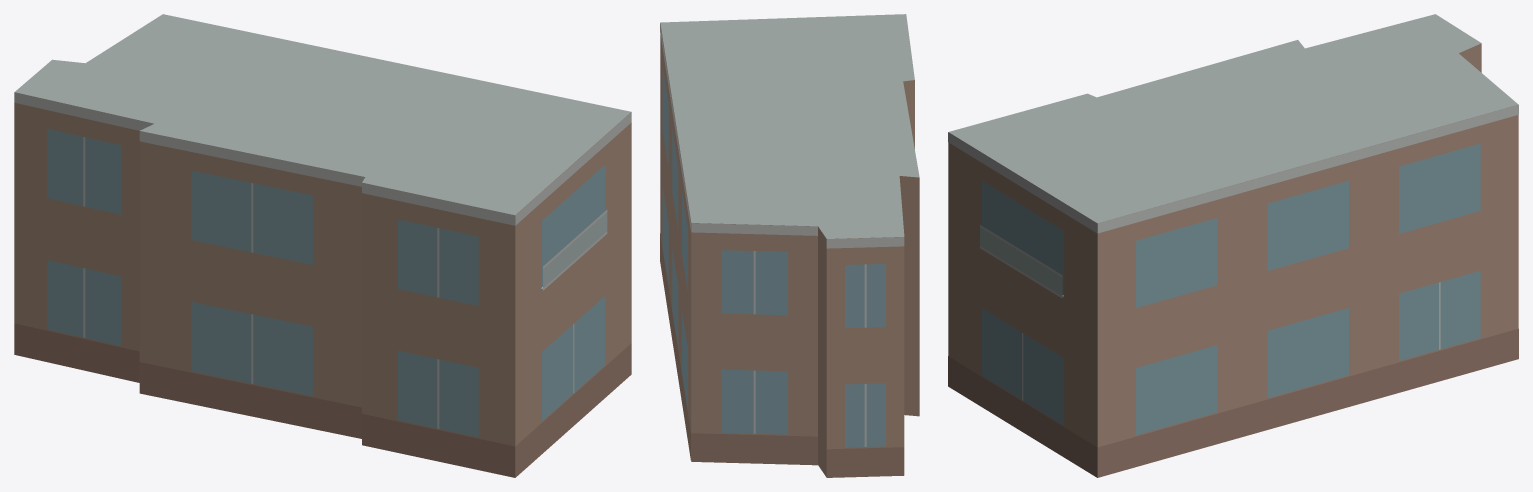
File: survey-upis-32466652.glb
3 views of the same model, side by side, from view 1: azimuth 30°, elevation 25°; view 2: azimuth 150°, elevation 25°; view 3: azimuth 270°, elevation 25° (orthographic). The views are drawn at different scales.
Parts seen in each view (by area): view 1: survey-upis-32466652.tmp; view 2: survey-upis-32466652.tmp; view 3: survey-upis-32466652.tmp.
Boxes of the visible parts, bbox=[...] form: survey-upis-32466652.tmp: bbox=[14, 14, 631, 477]; survey-upis-32466652.tmp: bbox=[660, 14, 919, 477]; survey-upis-32466652.tmp: bbox=[948, 14, 1518, 477].
Bounding box in the file's own units: 10.78 × 6.1 × 12.41.
